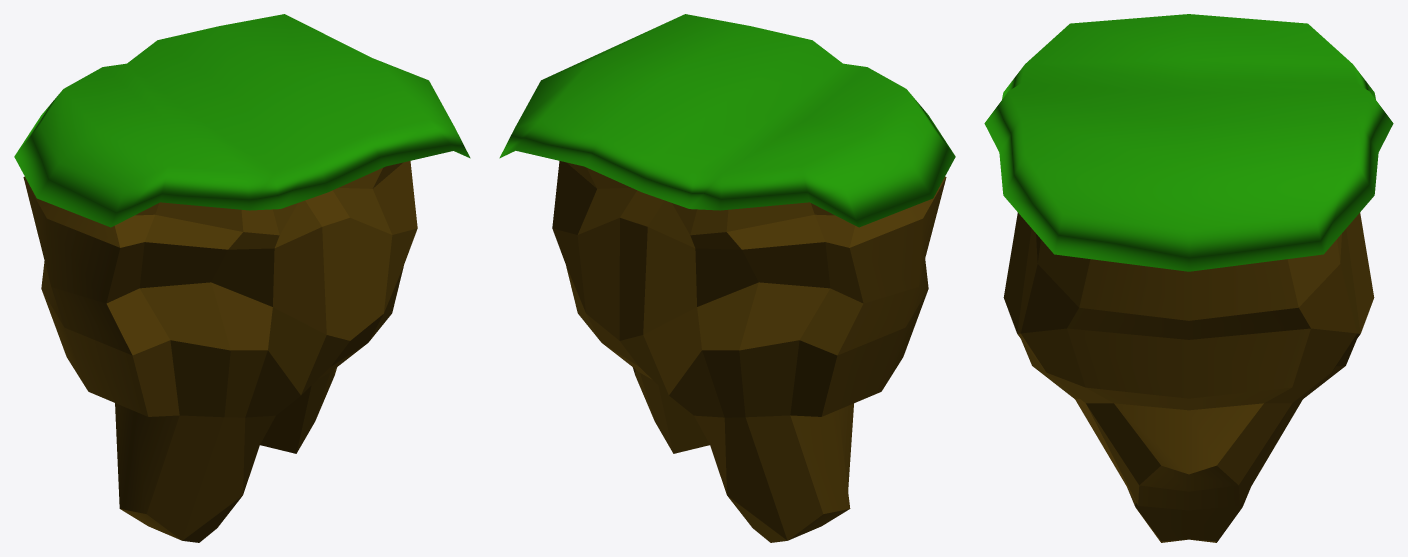
Rendered from Earth_Platform_FBX.fbx.
3 views of the same model, side by side, from view 1: azimuth 30°, elevation 25°; view 2: azimuth 150°, elevation 25°; view 3: azimuth 270°, elevation 25° (orthographic). The views are drawn at different scales.
Visible parts, largest first — view 1: Earth2; view 2: Earth2; view 3: Earth2.
Boxes of the visible parts, x1,y1,x2,y2 form: Earth2: (14, 14, 470, 542); Earth2: (499, 14, 955, 542); Earth2: (984, 14, 1393, 542).
Size of the model in its own units: 4.96 by 5 by 3.82.
